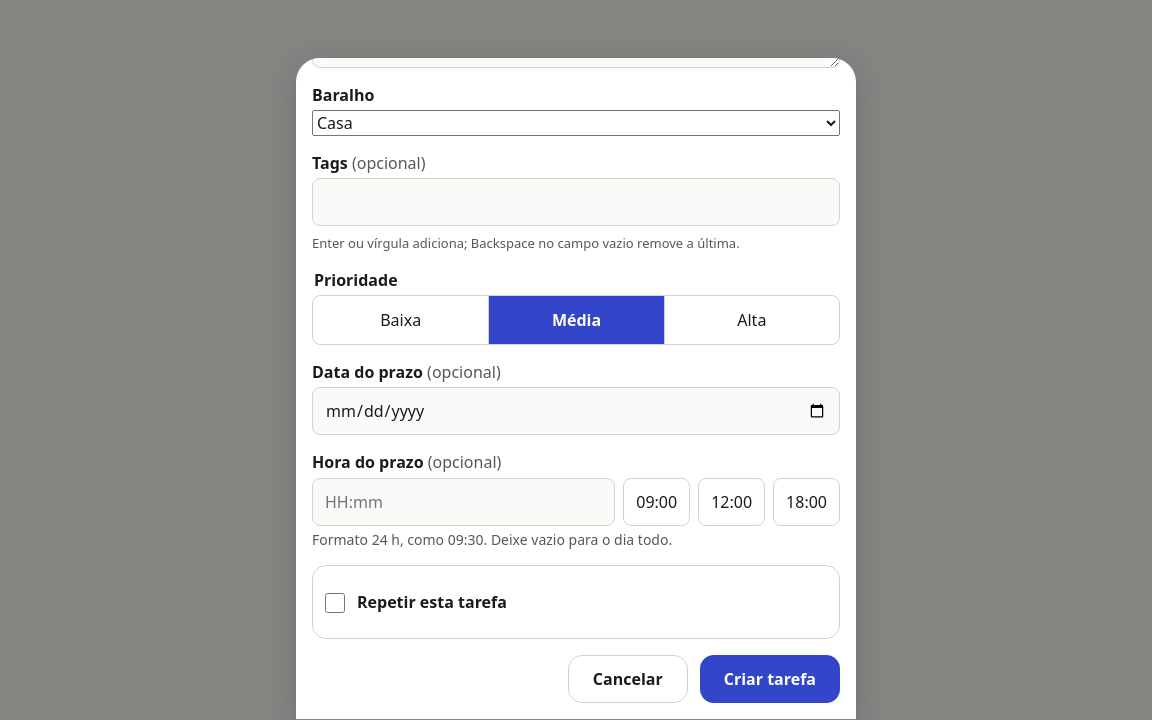
Test case: TaskFormSheet: repetition › is off by default and shows its fields when turned on, with a hint for each anchor
The image size is (1152, 720).
(page scrolled)
Check: the field labelled "A cada" is not shown
Step 1. Click the checkbox labelled "Repetir esta tarefa" → (335,603), box [325,593,345,613]
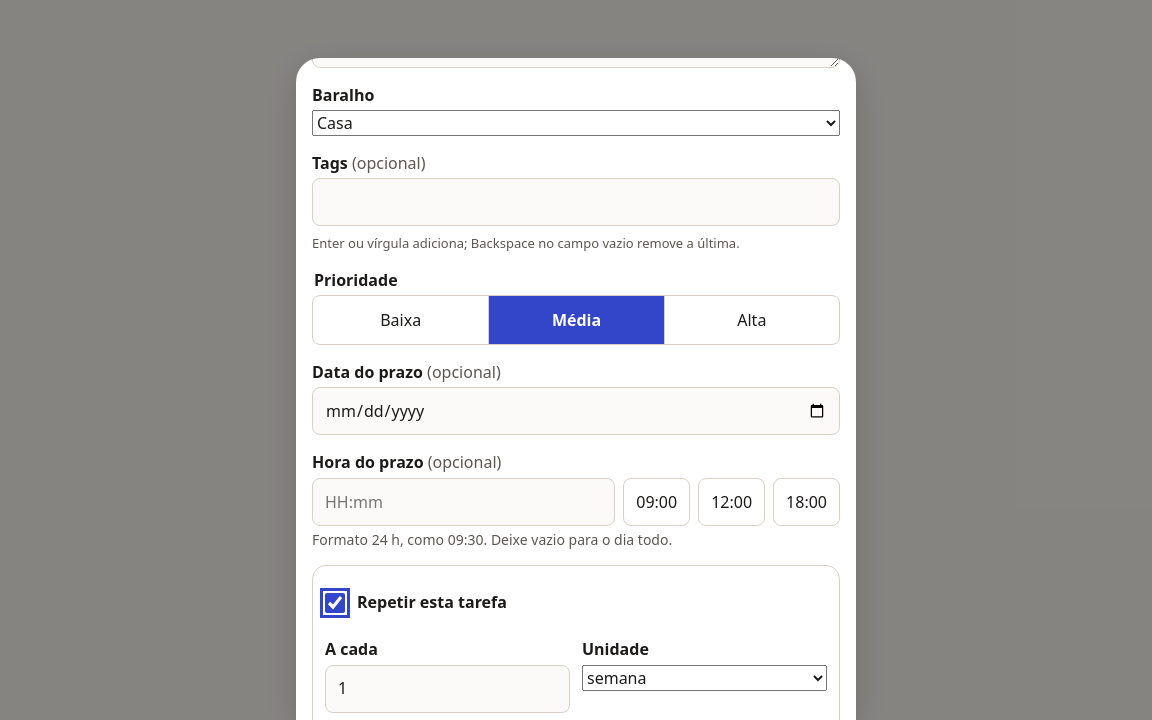
Check: the number field labelled "A cada" holds "1", box [325,665,570,713]
Check: the dropdown labelled "Unidade" shows "semana", box [582,665,827,691]
